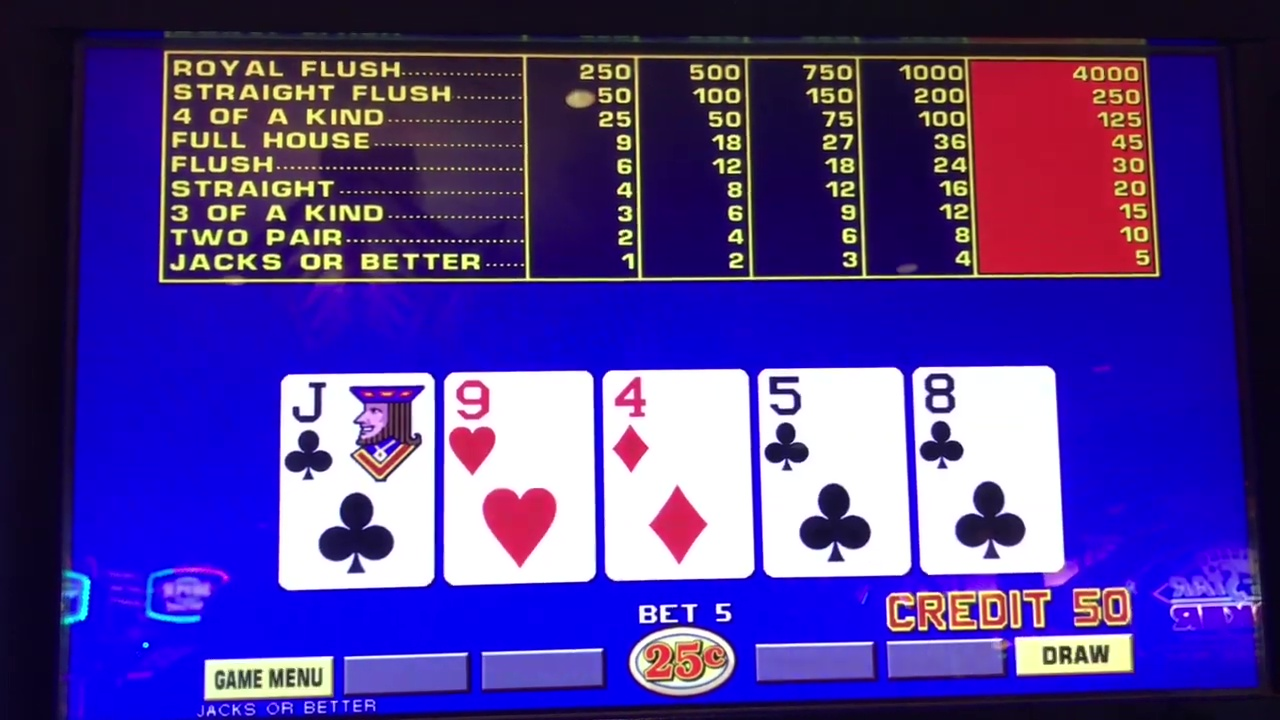C5: (766, 371, 897, 577)
C8: (920, 366, 1057, 574)
CJ: (286, 375, 426, 581)
D4: (607, 366, 741, 577)
H9: (449, 373, 591, 584)
